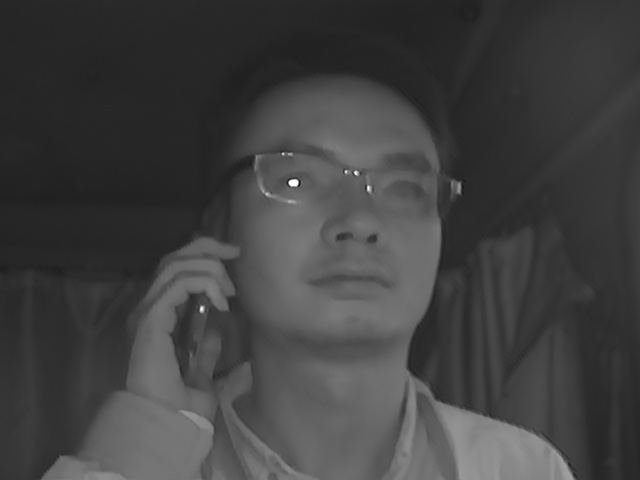hand: (124, 238, 246, 414)
